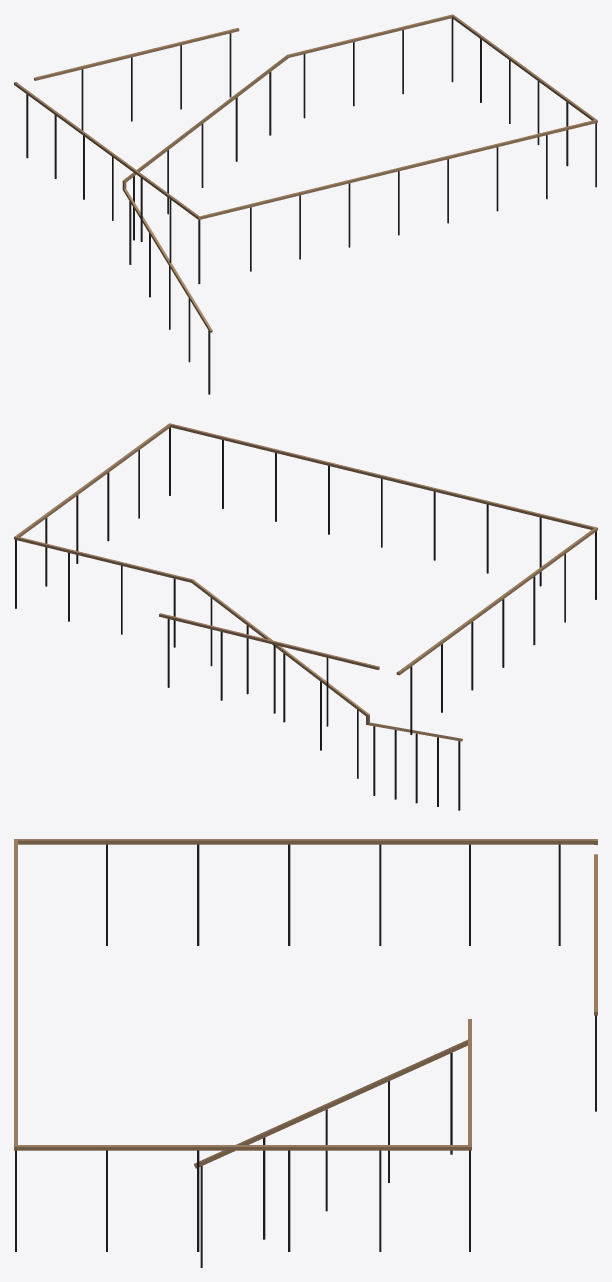
File: Akademik_barierki_ex.fbx
3 views of the same model, one above another, from view 1: azimuth 30°, elevation 25°; view 2: azimuth 150°, elevation 25°; view 3: azimuth 270°, elevation 25° (orthographic). The views are drawn at different scales.
Parts seen in each view (by area): view 1: Model; view 2: Model; view 3: Model.
Boxes of the visible parts, <box> form: Model: <box>14,14,597,332</box>; Model: <box>14,423,597,741</box>; Model: <box>14,839,597,1251</box>.
Bounding box in the file's own units: 7 × 3.97 × 5.61.
